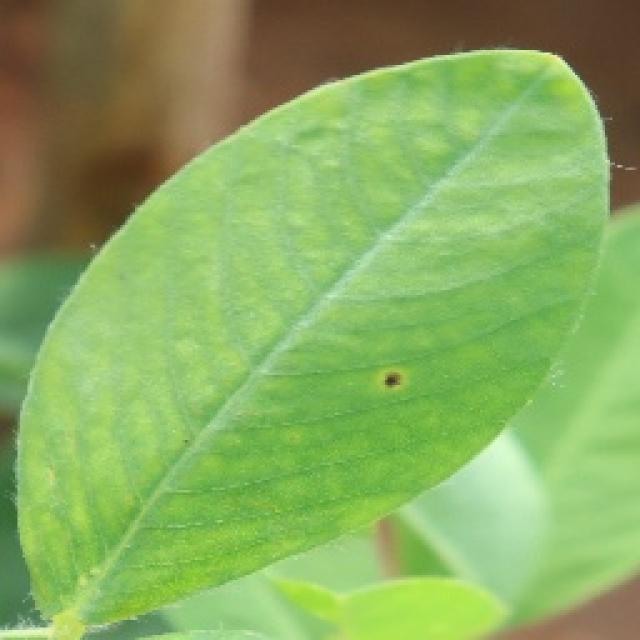Early_leaf_spot: (354, 349, 426, 426)
